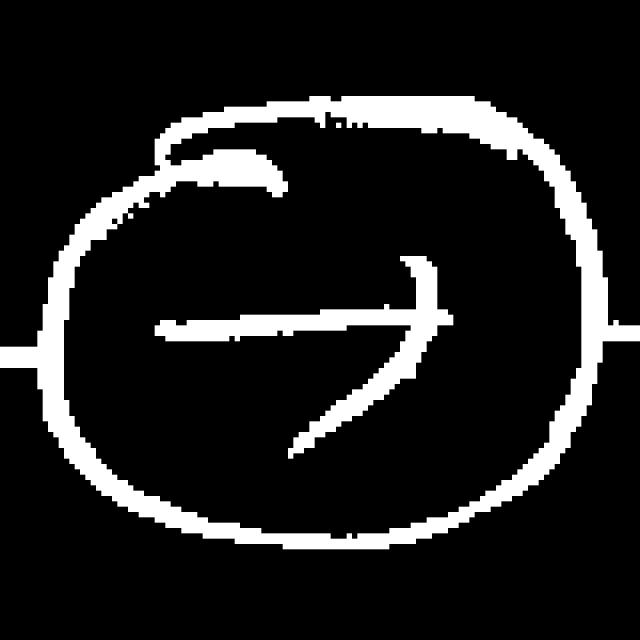current_source: (26, 76, 606, 564)
